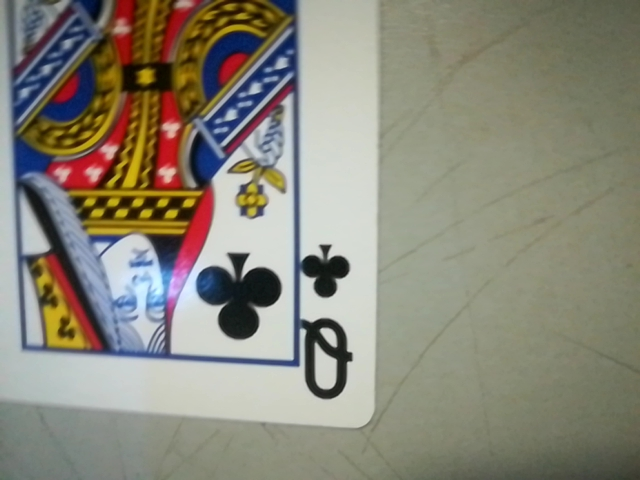mh q: (290, 235, 369, 414)
